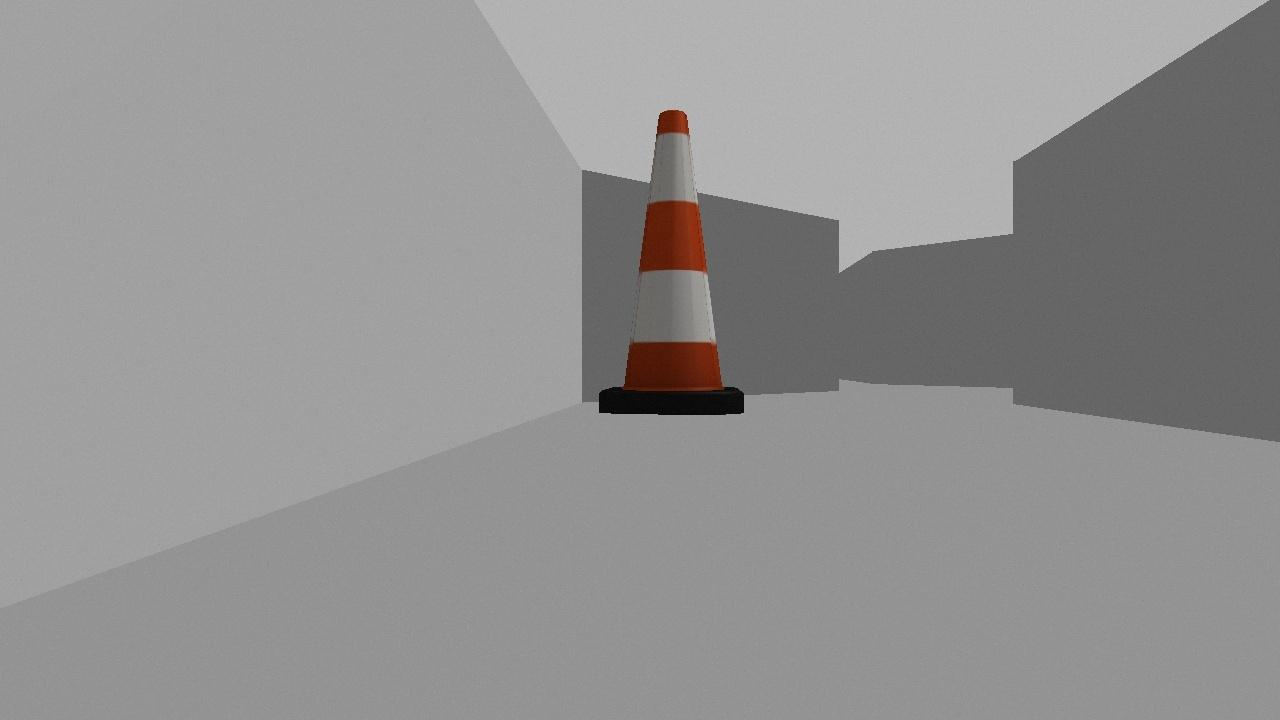cone_barrel: (597, 109, 743, 416)
